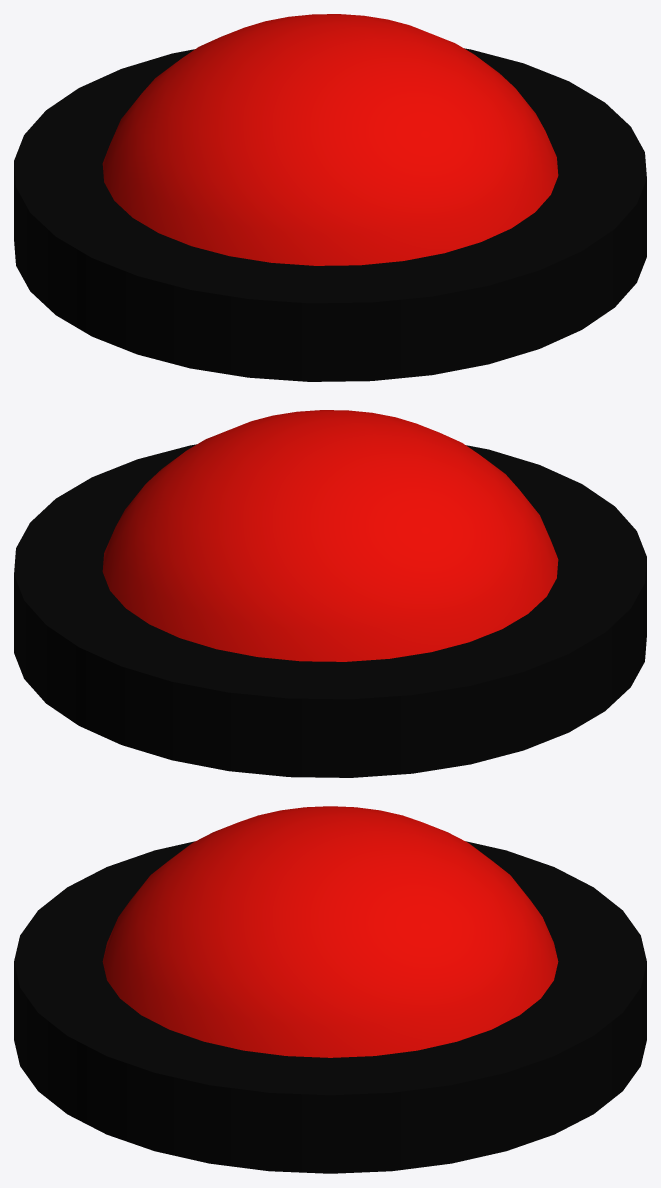
The model's file is ボタン案2.fbx.
The picture shows the model from 3 angles, top to bottom: view 1: azimuth 30°, elevation 25°; view 2: azimuth 150°, elevation 25°; view 3: azimuth 270°, elevation 25°; orthographic projection.
Visible parts, largest first — view 1: 円柱; view 2: 円柱; view 3: 円柱.
Part boxes in pixels (box(x1,y1,x2,y2)): 円柱: box(14, 14, 646, 381); 円柱: box(14, 410, 646, 777); 円柱: box(14, 806, 646, 1173).
Size of the model in its own units: 388 by 140 by 388.
